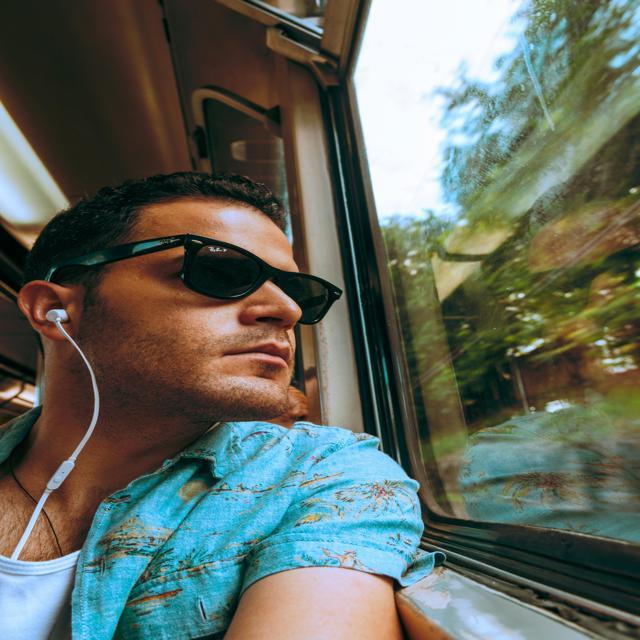2_gafas: (43, 232, 343, 325)
